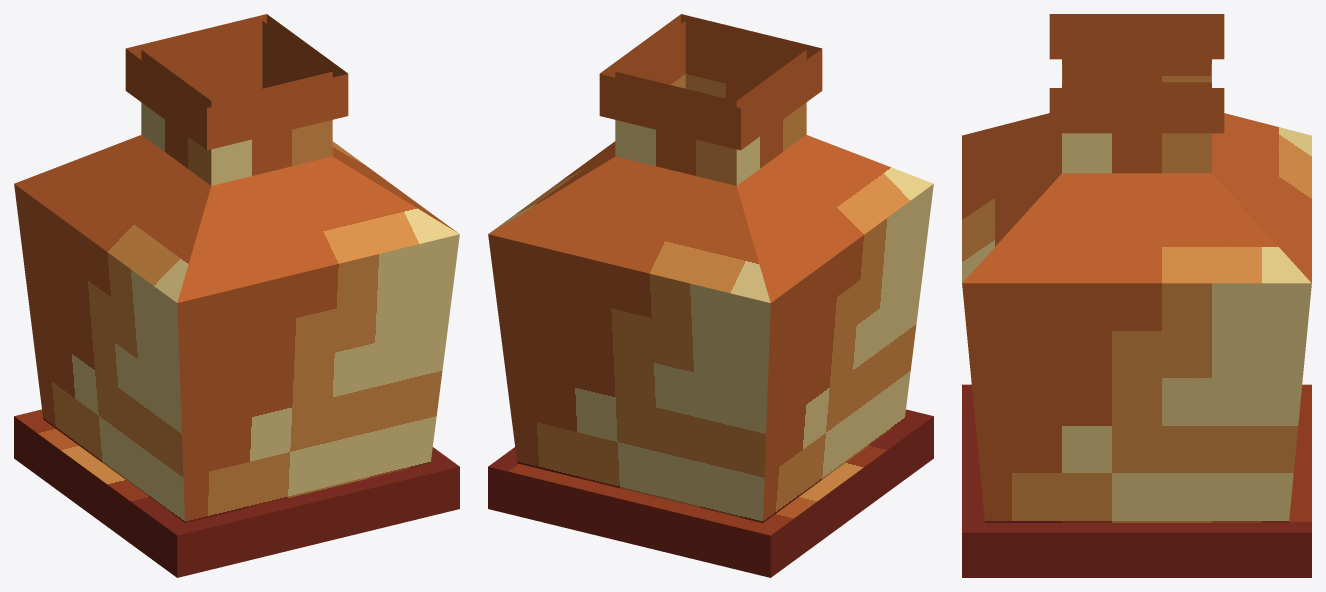
The model's file is copper_crucible.obj.
3 views of the same model, side by side, from view 1: azimuth 30°, elevation 25°; view 2: azimuth 150°, elevation 25°; view 3: azimuth 270°, elevation 25° (orthographic). The views are drawn at different scales.
Parts seen in each view (by area): view 1: copper_crucible; view 2: copper_crucible; view 3: copper_crucible.
Part boxes in pixels (left/top/right/bottom): copper_crucible: left=14, top=14, right=459, bottom=577; copper_crucible: left=488, top=14, right=933, bottom=577; copper_crucible: left=962, top=14, right=1311, bottom=577.
Bounding box in the file's own units: 0.875 × 1.25 × 0.875.
